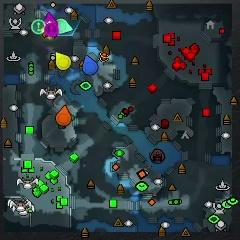Other: (31, 19, 46, 35), (45, 23, 58, 37)
p1: (82, 54, 99, 75)
p2: (55, 16, 73, 36)
p3: (41, 11, 58, 32)
p4: (53, 50, 72, 70)
p5: (55, 105, 72, 126)
